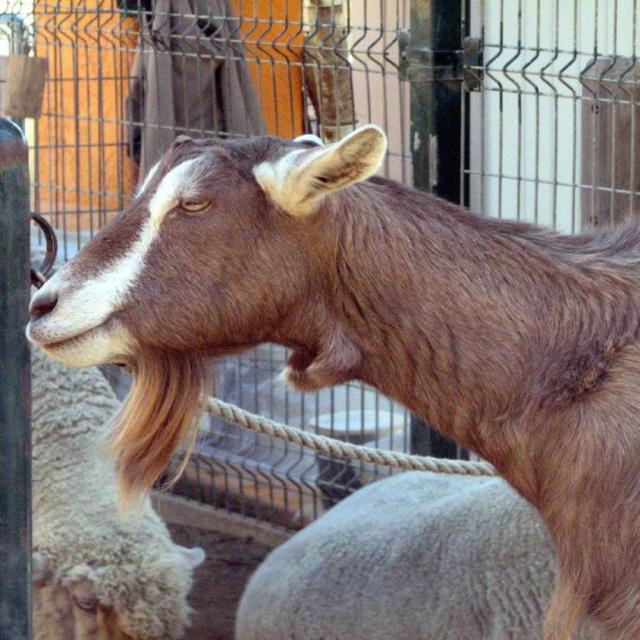Goat: (40, 117, 640, 584)
